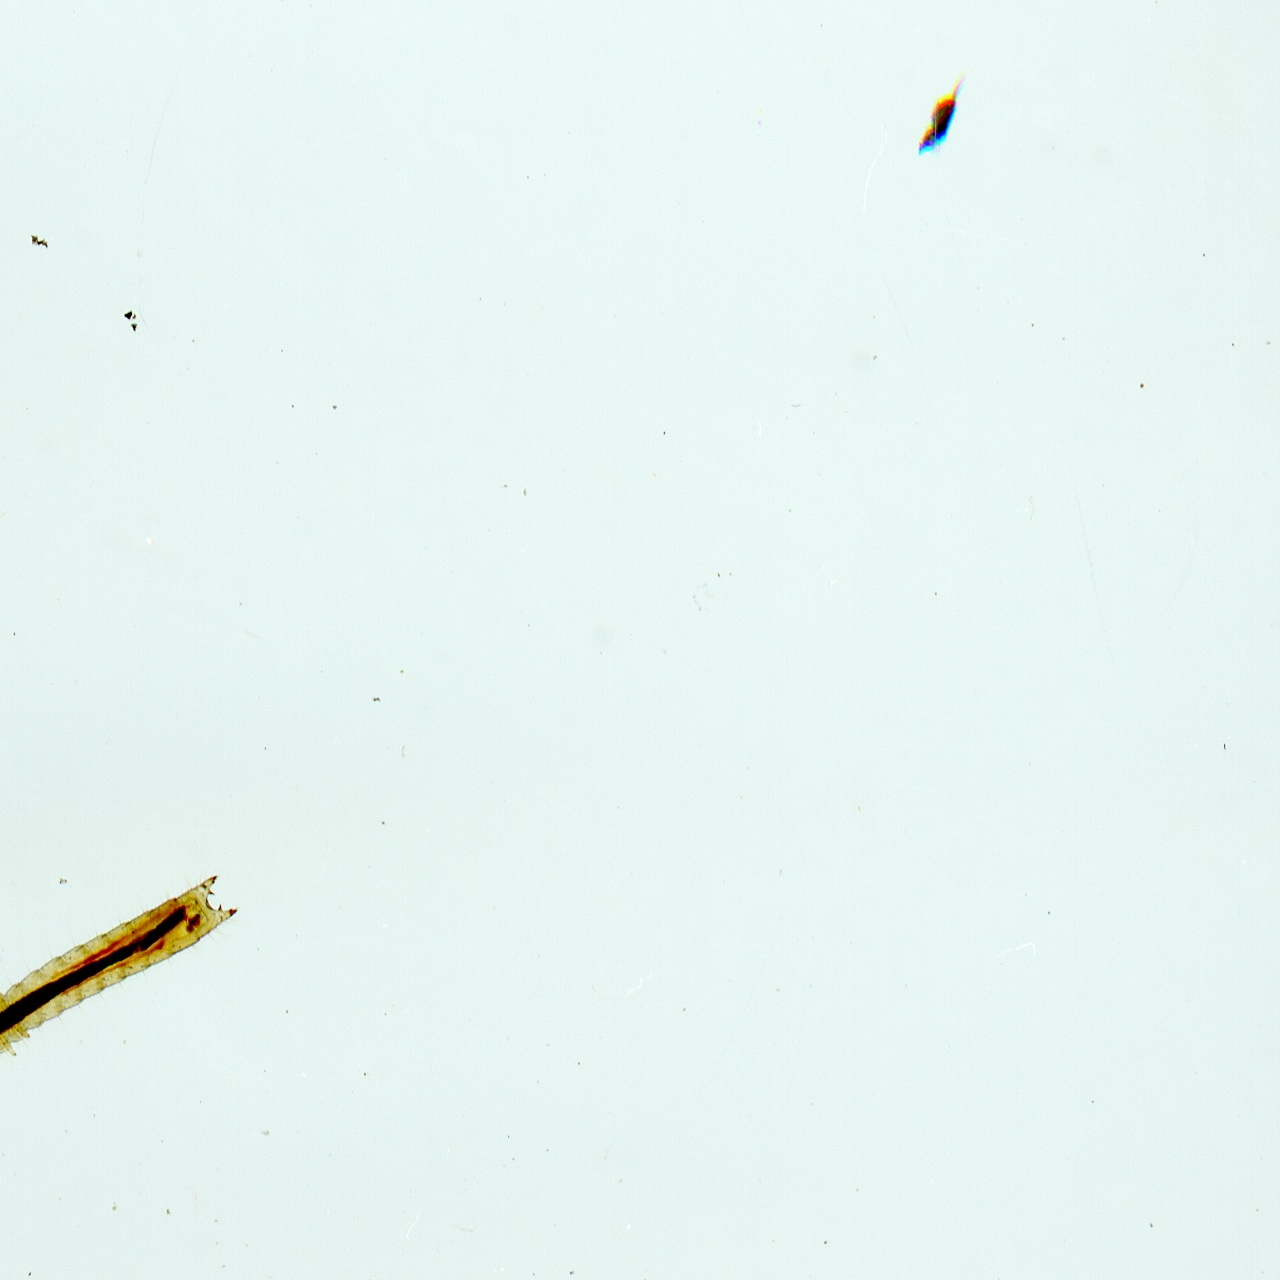arthropod: (0, 873, 239, 1083), (917, 73, 965, 164)
